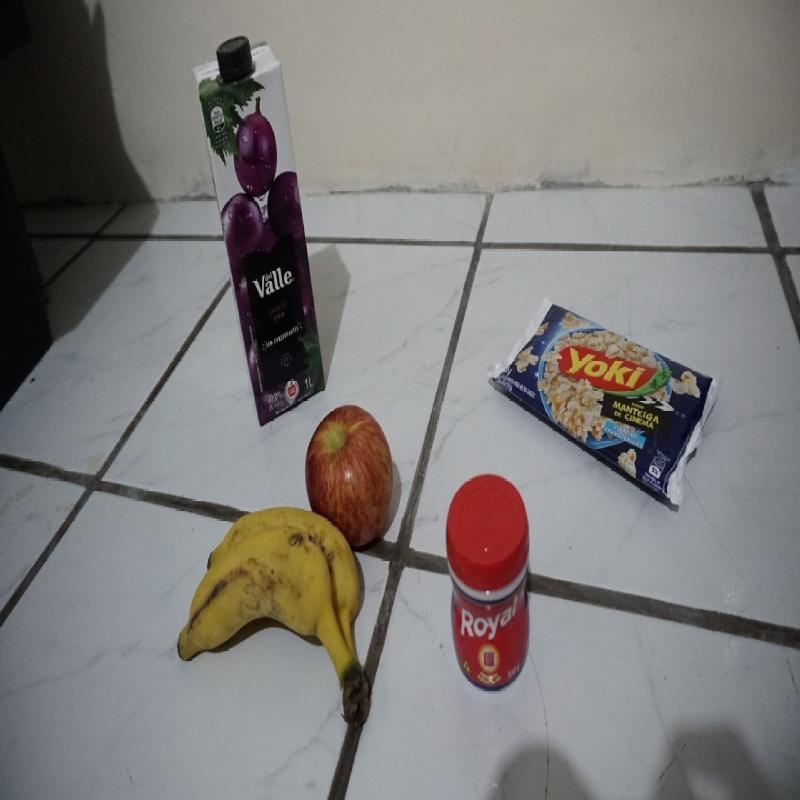Apple: (306, 403, 394, 545)
Banana: (179, 506, 370, 724)
Popcorn: (488, 295, 721, 506)
Yeast: (446, 474, 531, 692)
